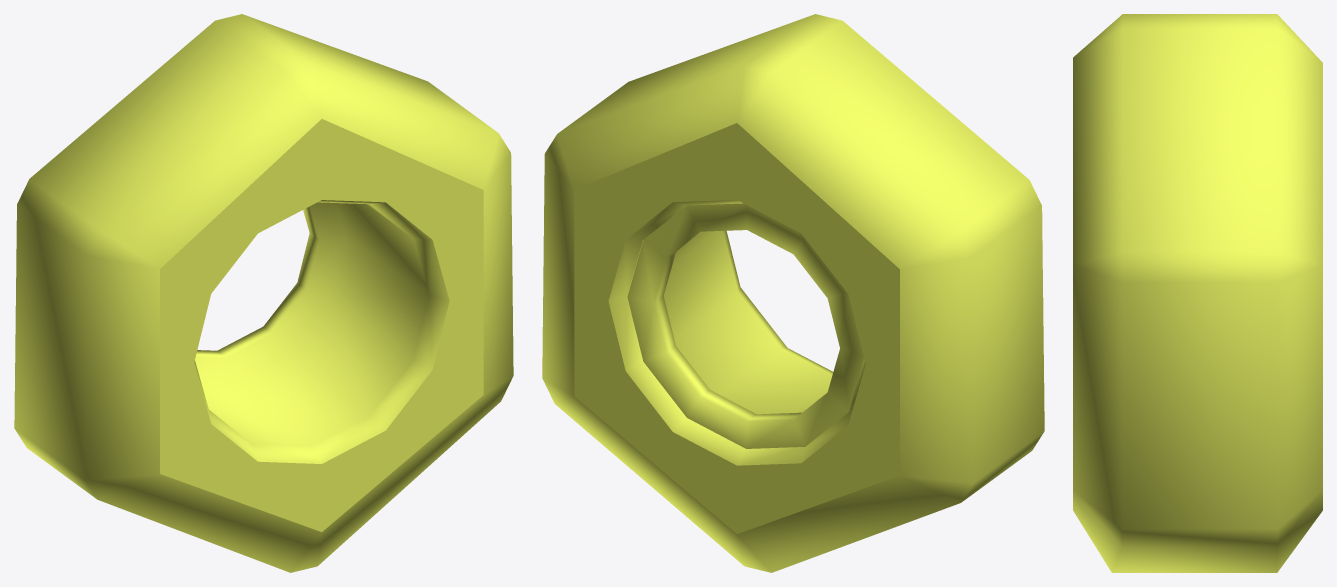
File: collectible.fbx
3 renders of one model, left to right at view 1: azimuth 30°, elevation 25°; view 2: azimuth 150°, elevation 25°; view 3: azimuth 270°, elevation 25°, orthographic. The views are drawn at different scales.
Parts seen in each view (by area): view 1: coin_low_teexport; view 2: coin_low_teexport; view 3: coin_low_teexport.
Boxes of the visible parts, x1,y1,x2,y2 form: coin_low_teexport: (14, 14, 513, 572); coin_low_teexport: (542, 14, 1044, 572); coin_low_teexport: (1073, 14, 1322, 572).
Size of the model in its own units: 1.8 by 0.8296 by 1.99.
